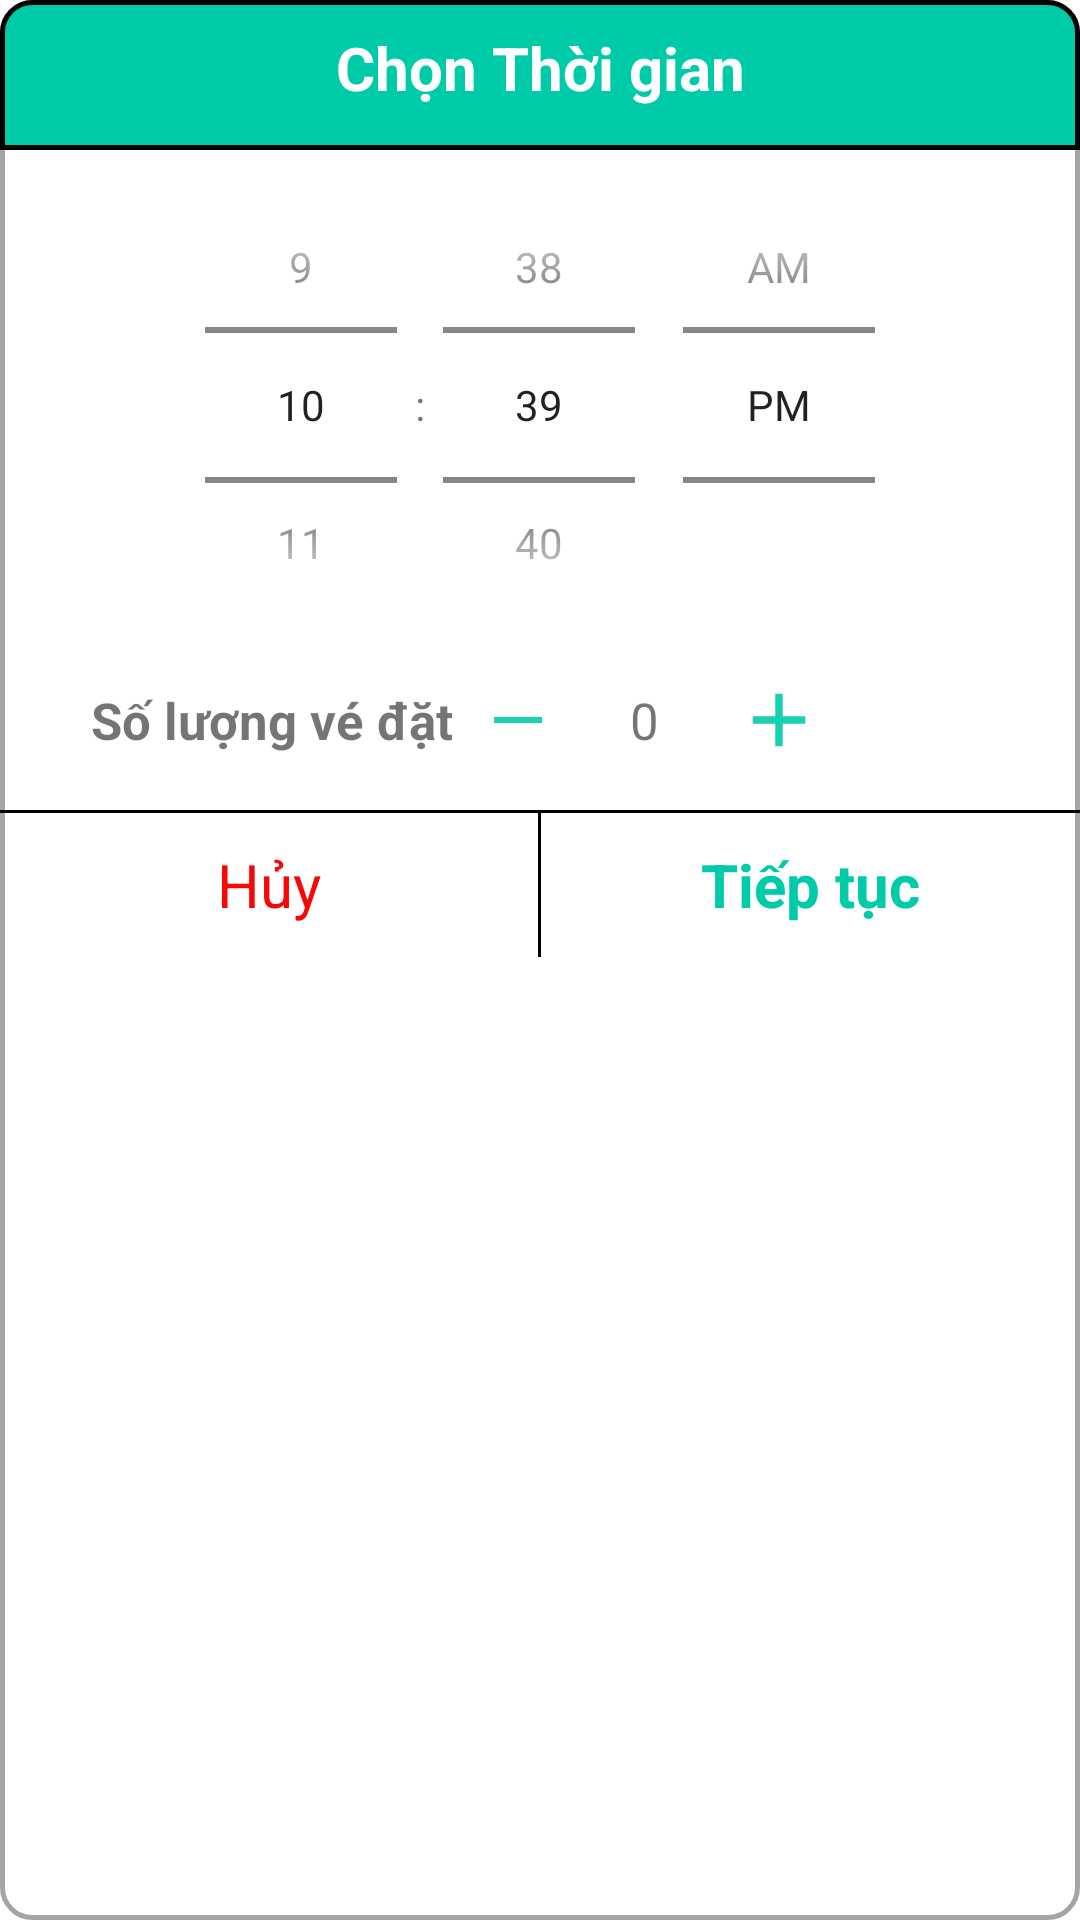

Point at icon controls on the screen. Image size 1080px×1920px, points as point (x, y).
add: point (779, 720)
